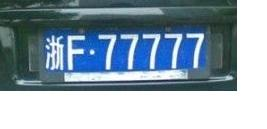plate_number: (37, 28, 204, 73)
